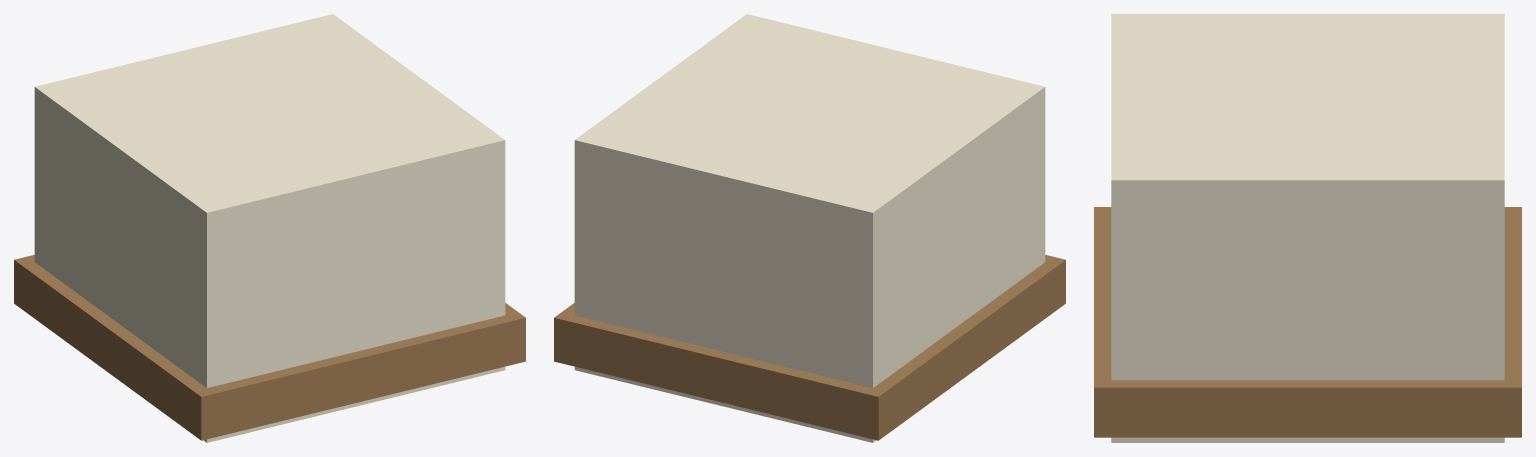
The model's file is druida_manga_inf.glb.
The picture shows the model from 3 angles, left to right: view 1: azimuth 30°, elevation 25°; view 2: azimuth 150°, elevation 25°; view 3: azimuth 270°, elevation 25°; orthographic projection. The views are drawn at different scales.
Parts seen in each view (by area): view 1: druida_manga_inf; view 2: druida_manga_inf; view 3: druida_manga_inf.
Boxes of the visible parts, x1,y1,x2,y2 form: druida_manga_inf: (14,14,525,442); druida_manga_inf: (554,14,1065,442); druida_manga_inf: (1094,14,1521,442).
Size of the model in its own units: 0.31 by 0.21 by 0.31.
